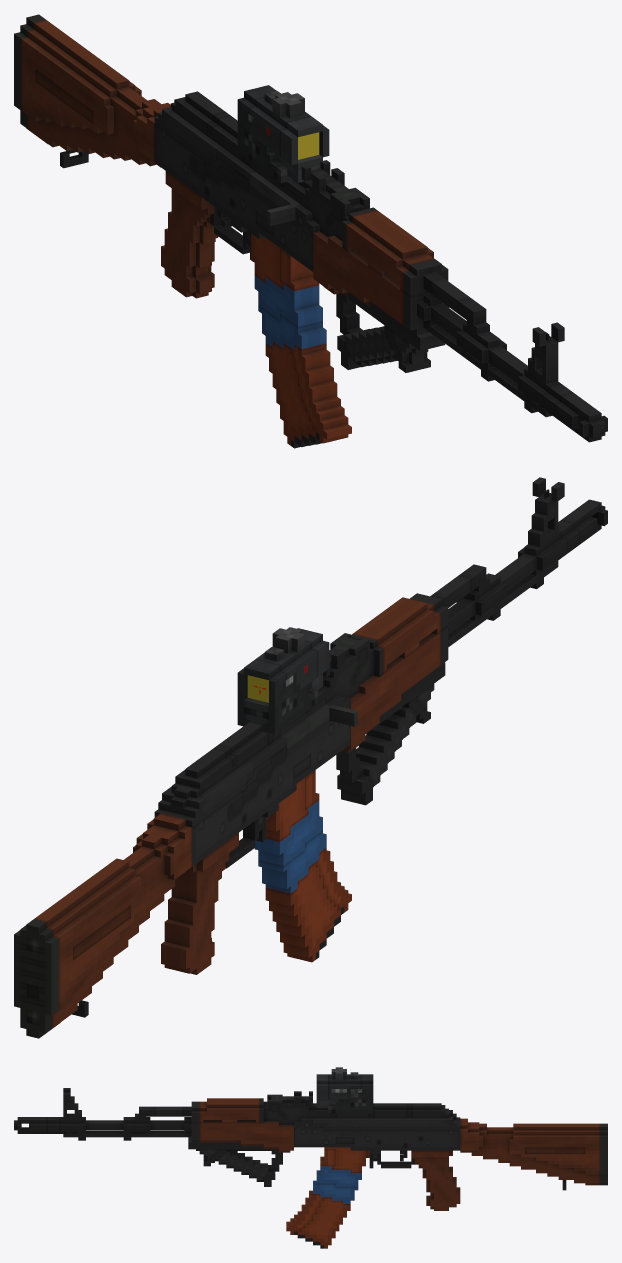
The picture shows the model from 3 angles, top to bottom: view 1: azimuth 30°, elevation 25°; view 2: azimuth 150°, elevation 25°; view 3: azimuth 270°, elevation 25°; orthographic projection. The views are drawn at different scales.
Visible parts, largest first — view 1: AK74, AK74_CLIP, SCOPE_TASCO, GRIP2, SCOPE_EOTECH; view 2: AK74, AK74_CLIP, GRIP2, SCOPE_TASCO, SCOPE_EOTECH; view 3: AK74, AK74_CLIP, GRIP2, SCOPE_TASCO, SCOPE_EOTECH.
Part boxes in pixels (left/top/right/bottom): AK74: left=14, top=14, right=607, bottom=442; AK74_CLIP: left=251, top=233, right=351, bottom=448; SCOPE_TASCO: left=237, top=85, right=329, bottom=182; GRIP2: left=336, top=292, right=445, bottom=372; SCOPE_EOTECH: left=237, top=111, right=322, bottom=182; AK74: left=14, top=477, right=607, bottom=1038; AK74_CLIP: left=254, top=770, right=351, bottom=962; GRIP2: left=336, top=662, right=445, bottom=805; SCOPE_TASCO: left=237, top=627, right=329, bottom=707; SCOPE_EOTECH: left=237, top=673, right=322, bottom=733; AK74: left=14, top=1088, right=607, bottom=1210; AK74_CLIP: left=286, top=1147, right=369, bottom=1248; GRIP2: left=188, top=1137, right=282, bottom=1186; SCOPE_TASCO: left=316, top=1067, right=373, bottom=1112; SCOPE_EOTECH: left=316, top=1089, right=373, bottom=1112.
Size of the model in its own units: 0.1083 by 0.502 by 1.55.
Materials: 6 (6 with a texture image).
